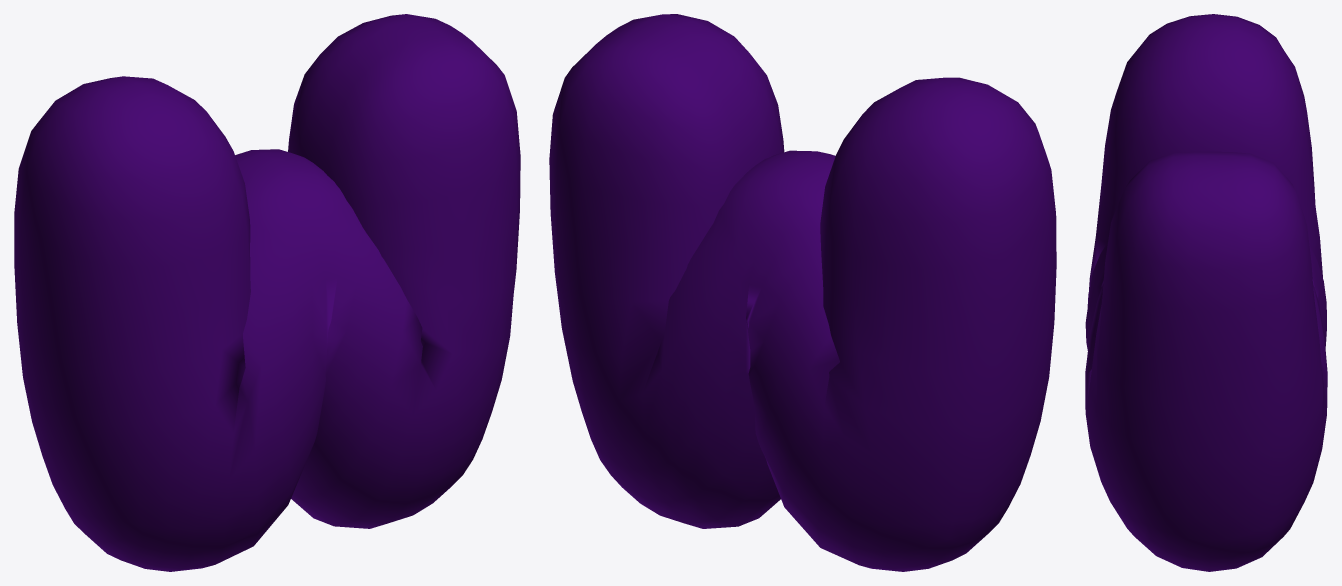
3 renders of one model, left to right at view 1: azimuth 30°, elevation 25°; view 2: azimuth 150°, elevation 25°; view 3: azimuth 270°, elevation 25°, orthographic. The views are drawn at different scales.
Visible parts, largest first — view 1: Object_48; view 2: Object_48; view 3: Object_48.
Boxes of the visible parts, left/top/right/bottom form: Object_48: left=14, top=14, right=520, bottom=571; Object_48: left=549, top=14, right=1056, bottom=571; Object_48: left=1085, top=14, right=1327, bottom=571.
Bounding box in the file's own units: 89.51 × 89.74 × 45.1.
